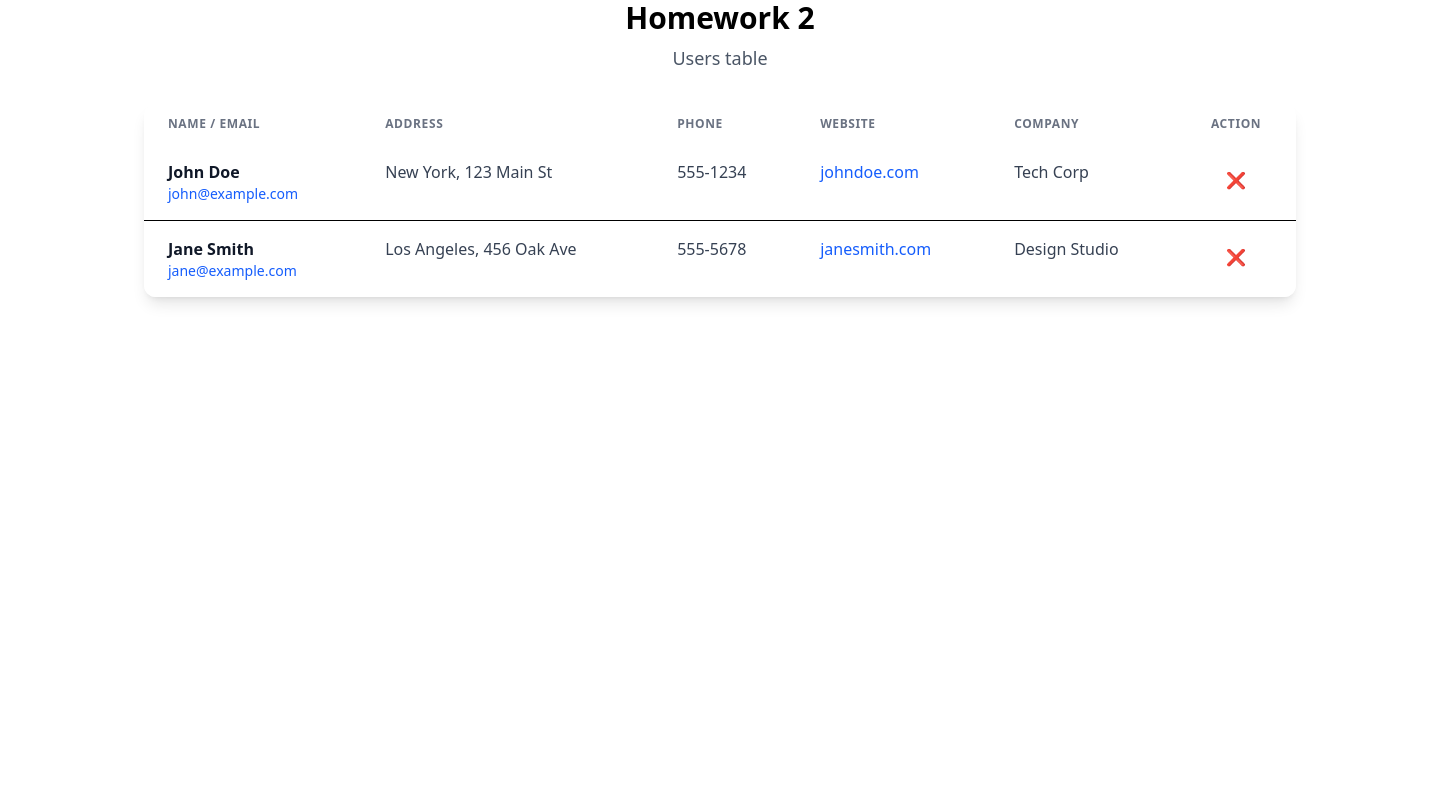
App › User Interactions › should close modal when close button is clicked
The image size is (1440, 810).
Expected: the text "John Doe" is shown, [168,161,240,183]
# Open modal
What coordinates should you click on to do the following:
click the row named "View details for John Doe"
I would click on:
 (720, 182)
Its box is [144,144,1296,220].
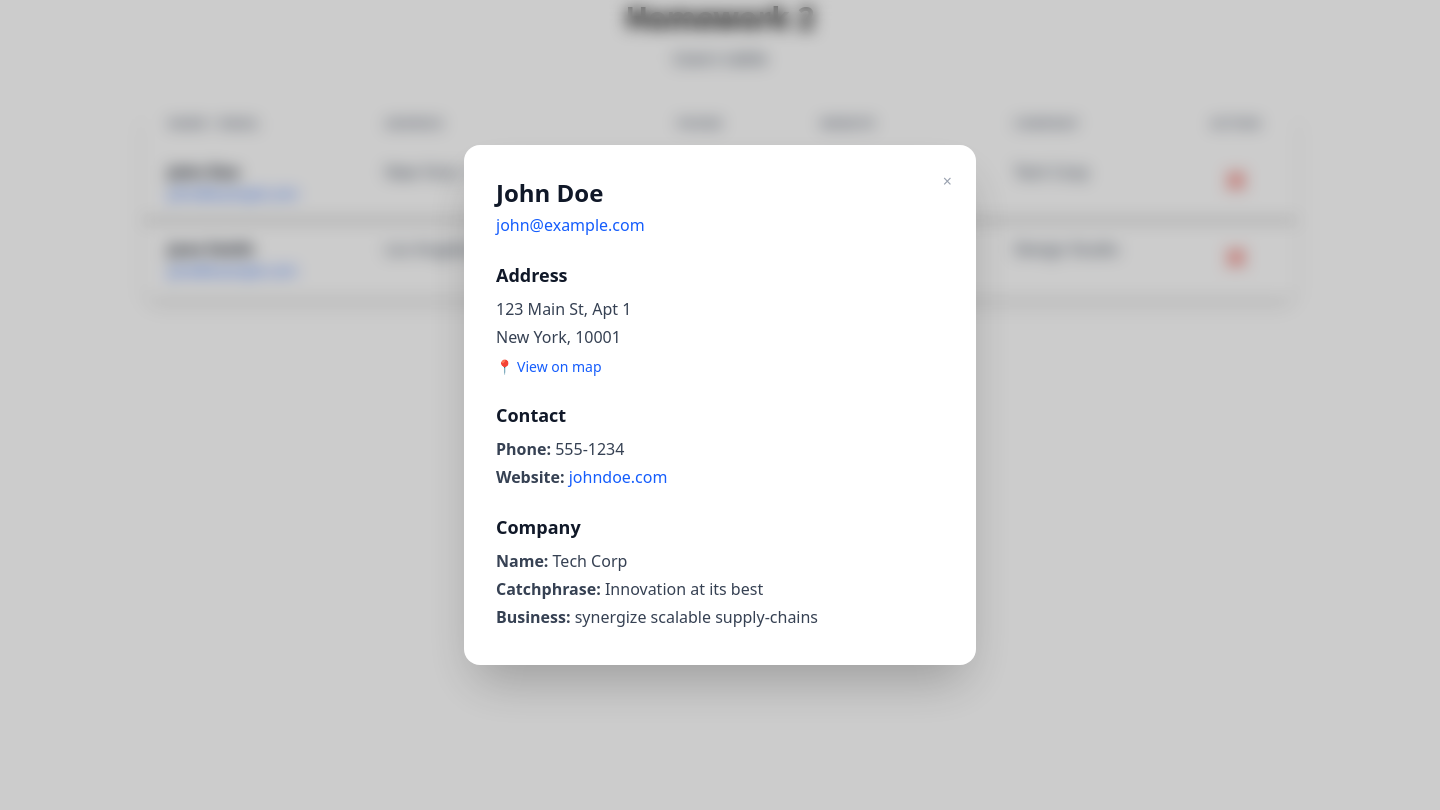
# Close modal
What coordinates should you click on to do the following:
click the button named "Close"
I would click on:
 (947, 181)
Its box is [935,161,960,201].
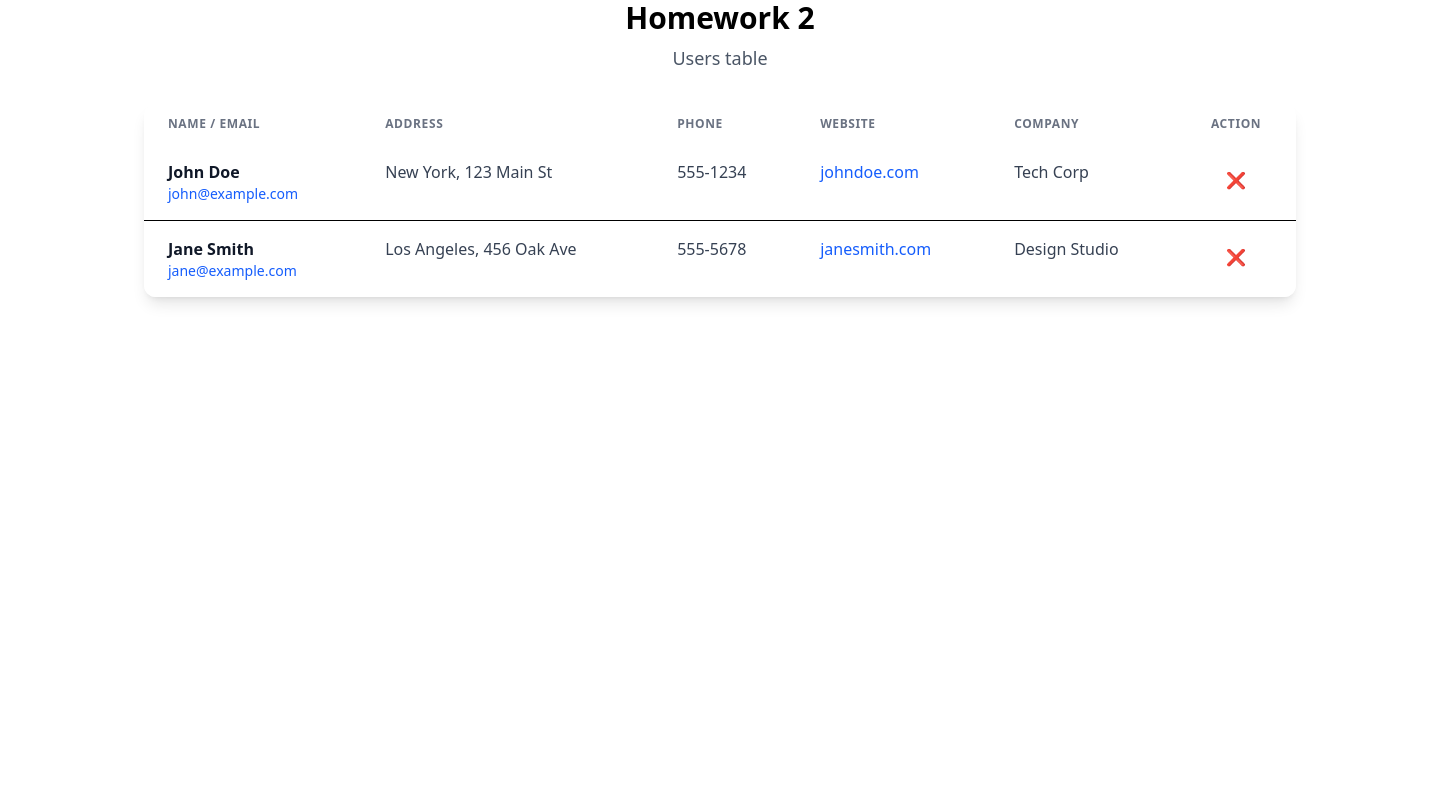
Expected: the dialog is gone
